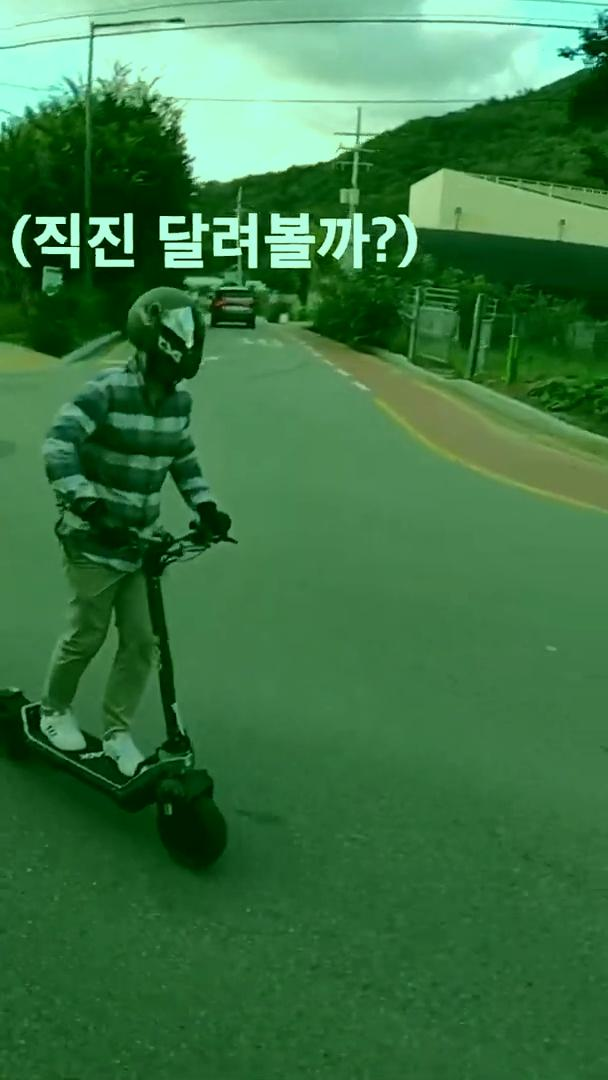helmet: (1, 285, 242, 873)
